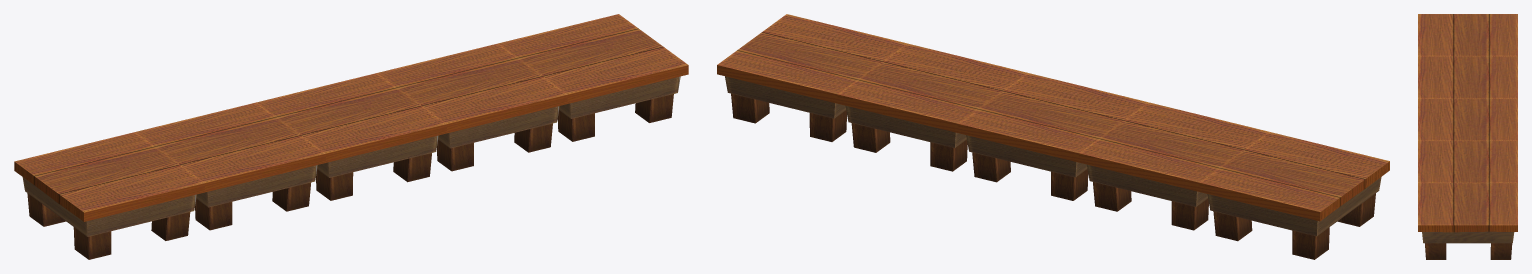
Rendered from MovingObjects_Higher.fbx.
3 views of the same model, side by side, from view 1: azimuth 30°, elevation 25°; view 2: azimuth 150°, elevation 25°; view 3: azimuth 270°, elevation 25° (orthographic). The views are drawn at different scales.
Parts seen in each view (by area): view 1: Worktop (×5); view 2: Worktop (×5); view 3: Worktop (×5).
Part boxes in pixels (<box>): Worktop (×5): <box>14,14,688,259</box>; Worktop (×5): <box>717,14,1389,259</box>; Worktop (×5): <box>1418,14,1517,259</box>.
Size of the model in its own units: 6 by 0.5124 by 1.2.
